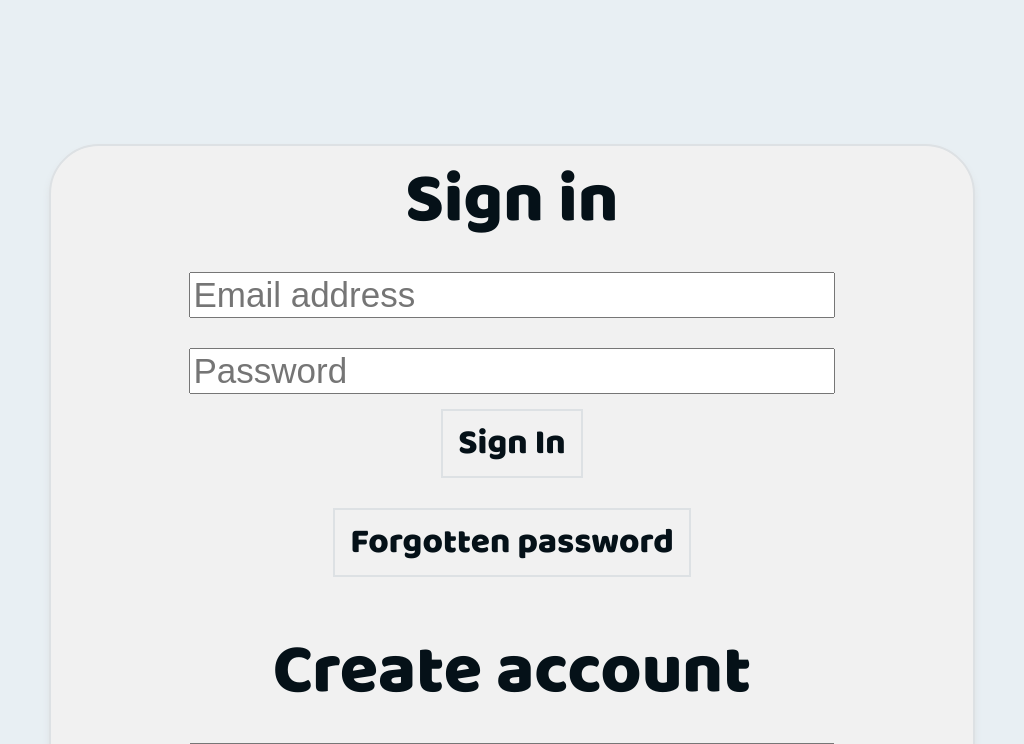
Test: SignIn Component › should allow sign in
Type "user@email.com" into the 1st field with alt text "sign in username input". click: [512, 295]
box: [189,272,834,318]
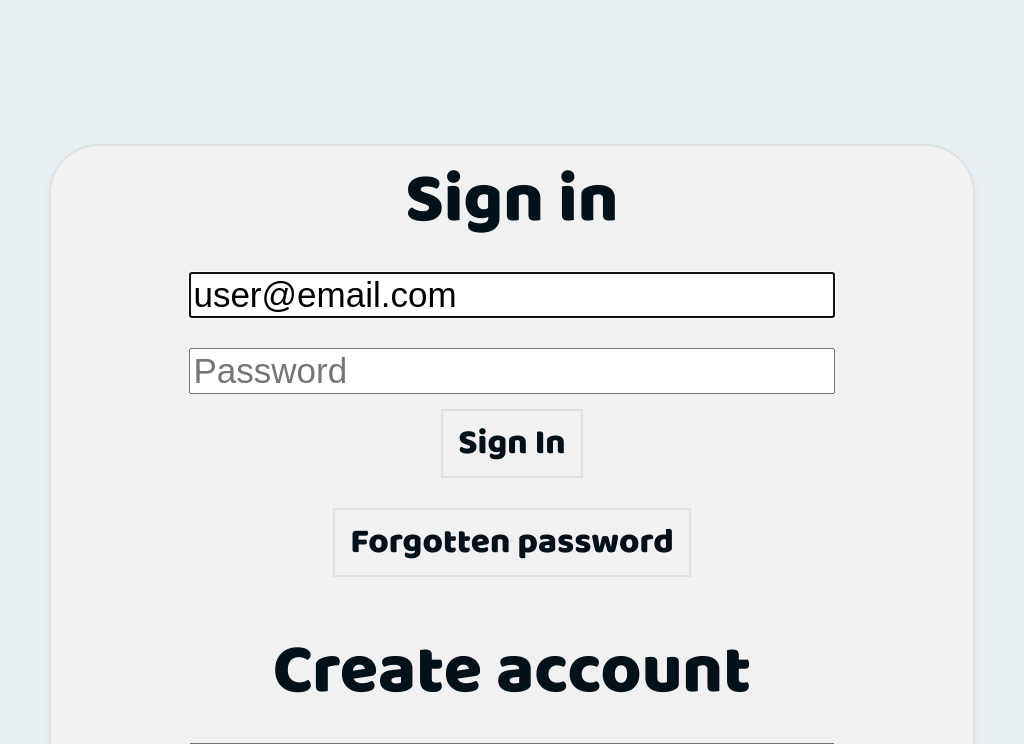
Type "password" into the password field with alt text "sign in password input". click: [512, 371]
box: [189,348,834,394]
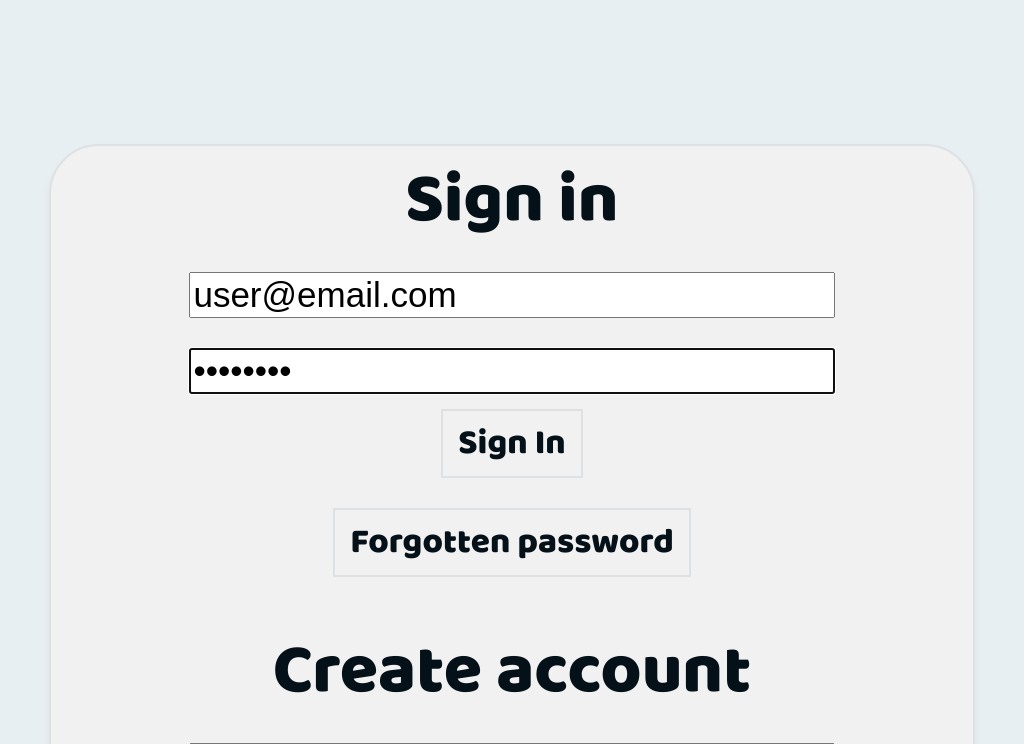
Click the button "Sign In". click: [512, 444]
box: [441,409,583,478]
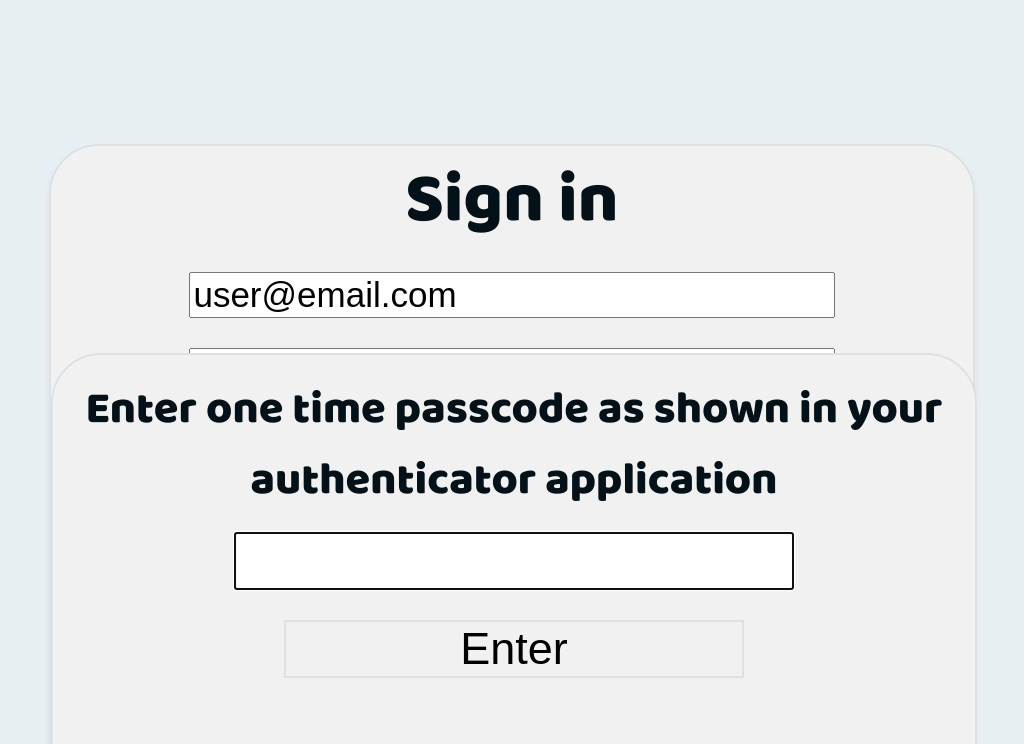
Check: the field with alt text "totp input" is shown, box [234,532,794,590]
